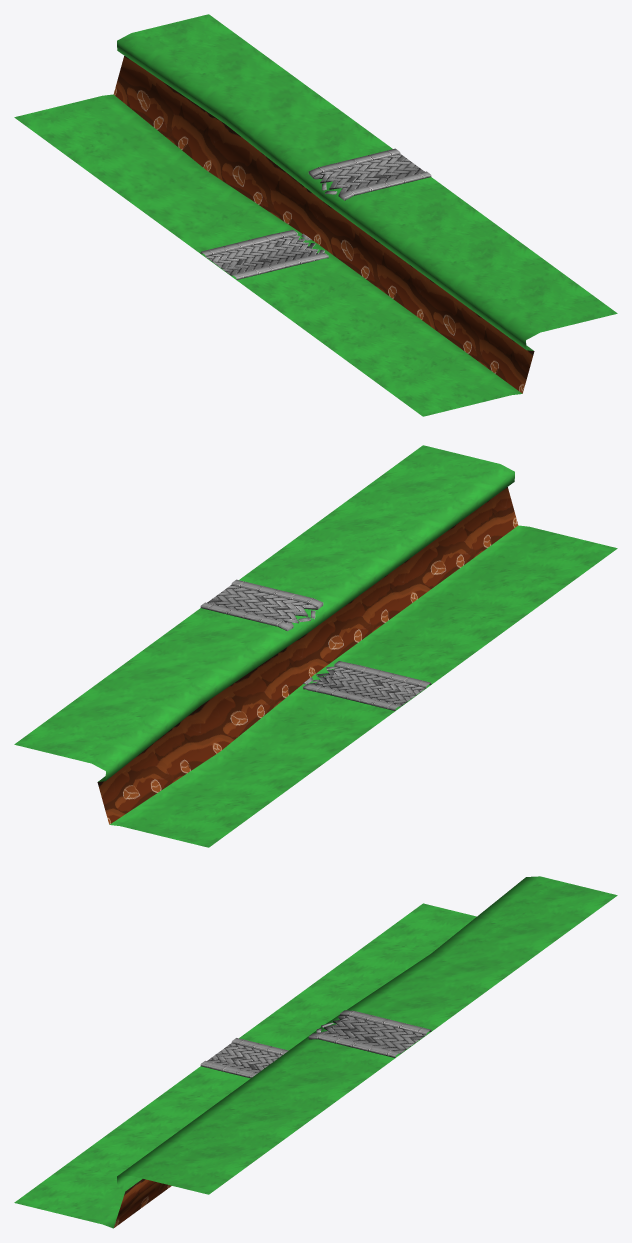
File: Terrain Broken Rising 3m.fbx
The picture shows the model from 3 angles, top to bottom: view 1: azimuth 30°, elevation 25°; view 2: azimuth 150°, elevation 25°; view 3: azimuth 330°, elevation 25°; orthographic projection.
Visible parts, largest first — view 1: Terrain, Road; view 2: Terrain, Road; view 3: Terrain, Road.
Part boxes in pixels (left/top/right/bottom): Terrain: left=14, top=14, right=617, bottom=416; Road: left=200, top=148, right=431, bottom=279; Terrain: left=14, top=445, right=617, bottom=847; Road: left=200, top=579, right=431, bottom=710; Terrain: left=14, top=876, right=617, bottom=1228; Road: left=200, top=1010, right=431, bottom=1078.
Bounding box in the file's own units: 11 × 3.34 × 40.
